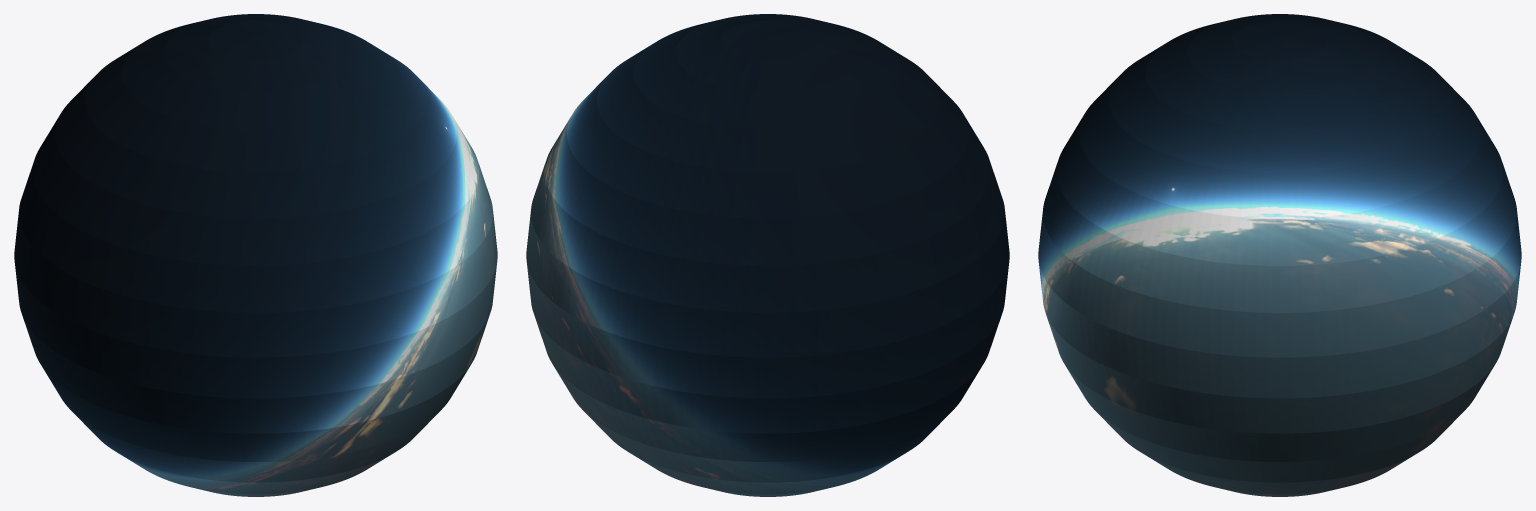
The model's file is skydome.obj.
3 renders of one model, left to right at view 1: azimuth 30°, elevation 25°; view 2: azimuth 150°, elevation 25°; view 3: azimuth 270°, elevation 25°, orthographic.
Visible parts, largest first — view 1: skydome_球; view 2: skydome_球; view 3: skydome_球.
Boxes of the visible parts, x1=… form: skydome_球: x1=14, y1=14, x2=497, y2=496; skydome_球: x1=526, y1=14, x2=1009, y2=496; skydome_球: x1=1038, y1=14, x2=1521, y2=496.
Size of the model in its own units: 1400 by 1400 by 1400.
1 material, 1 textured.
